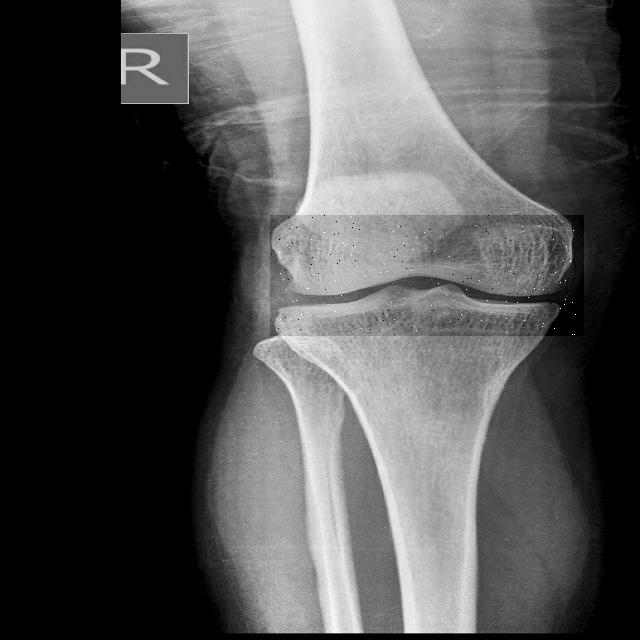normal: (270, 215, 584, 336)
